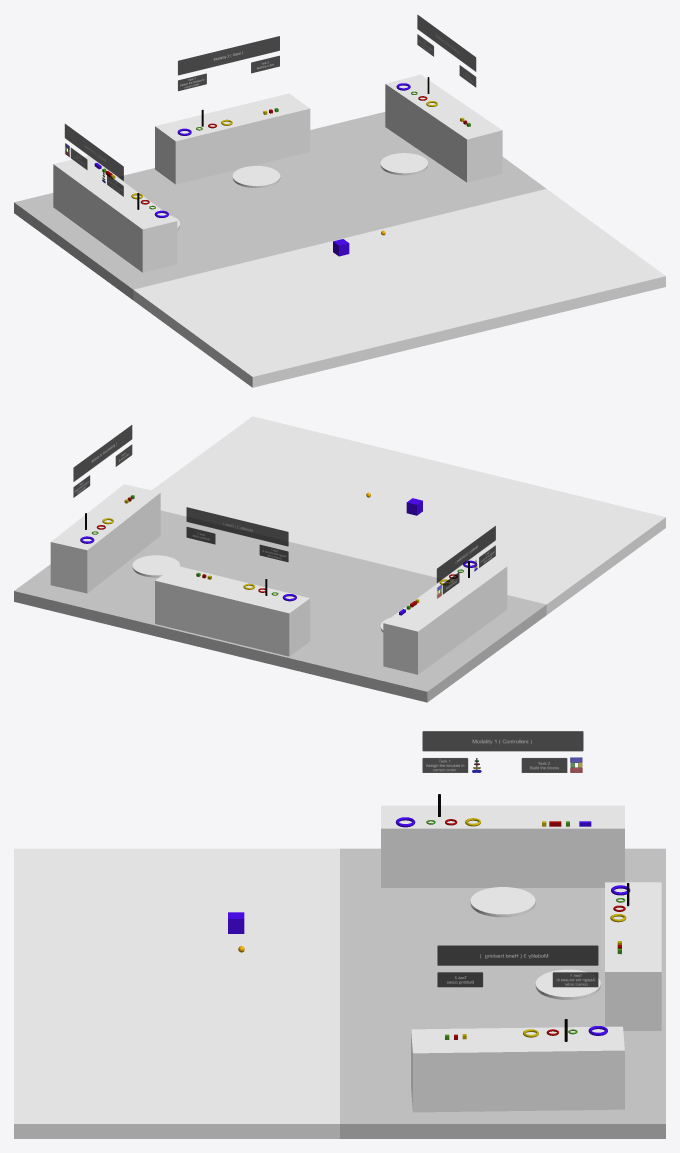
3 renders of one model, top to bottom at view 1: azimuth 30°, elevation 25°; view 2: azimuth 150°, elevation 25°; view 3: azimuth 270°, elevation 25°, orthographic. The views are drawn at different scales.
Visible parts, largest first — view 1: Cube, Non-Teleportable Ground, Gaze Interactable Table, Grab Interactable Table, Hand Tracking Interactable Table, Gaze Interactable Info, Teleport Anchor (×2), Grab Interactable Info, Hand Tracking Interactable Info; view 2: Cube, Non-Teleportable Ground, Gaze Interactable Table, Grab Interactable Table, Hand Tracking Interactable Table, Gaze Interactable Info, Grab Interactable Info, Hand Tracking Interactable Info, Teleport Anchor; view 3: Cube, Non-Teleportable Ground, Grab Interactable Table, Hand Tracking Interactable Table, Gaze Interactable Table, Grab Interactable Info, Hand Tracking Interactable Info, Teleport Anchor (×2).
Boxes of the visible parts, box(x1,y1,x2,y2) form: Cube: box(133, 189, 665, 387); Non-Teleportable Ground: box(14, 112, 546, 299); Gaze Interactable Table: box(155, 93, 310, 184); Grab Interactable Table: box(53, 156, 177, 272); Hand Tracking Interactable Table: box(385, 74, 502, 182); Gaze Interactable Info: box(178, 36, 279, 90); Teleport Anchor (×2): box(232, 153, 427, 188); Grab Interactable Info: box(64, 124, 123, 196); Hand Tracking Interactable Info: box(417, 14, 476, 87); Cube: box(152, 416, 665, 614); Non-Teleportable Ground: box(14, 510, 546, 702); Gaze Interactable Table: box(155, 565, 310, 656); Grab Interactable Table: box(383, 558, 507, 674); Hand Tracking Interactable Table: box(50, 484, 160, 593); Gaze Interactable Info: box(186, 507, 288, 562); Grab Interactable Info: box(436, 526, 495, 598); Hand Tracking Interactable Info: box(73, 425, 132, 497); Teleport Anchor: box(132, 555, 179, 577); Cube: box(14, 848, 339, 1138); Non-Teleportable Ground: box(340, 848, 665, 1138); Grab Interactable Table: box(381, 805, 624, 887); Hand Tracking Interactable Table: box(411, 1026, 624, 1112); Gaze Interactable Table: box(605, 882, 661, 1030); Grab Interactable Info: box(422, 731, 583, 772); Hand Tracking Interactable Info: box(437, 945, 598, 987); Teleport Anchor (×2): box(470, 887, 600, 999).
Bounding box in the file's own units: 10 × 2.88 × 10.
Materials: 13 (3 with a texture image).
